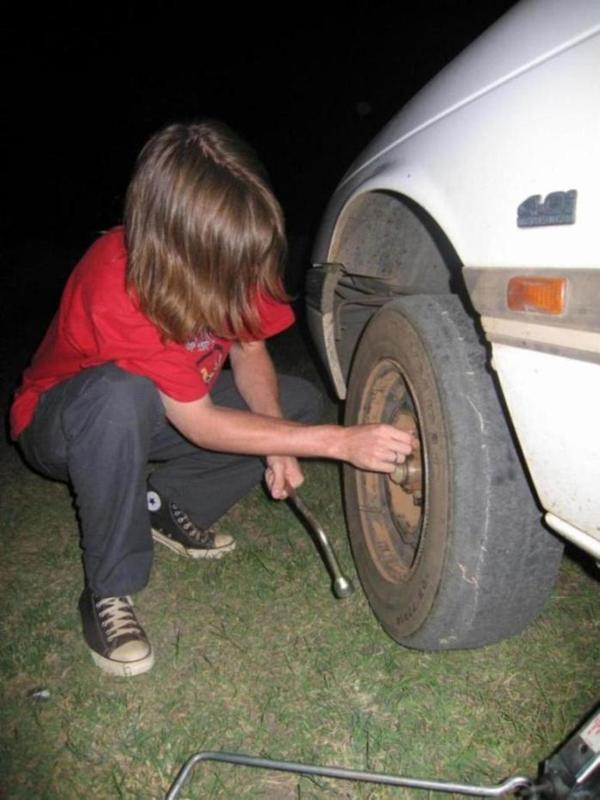person: (9, 121, 413, 679)
